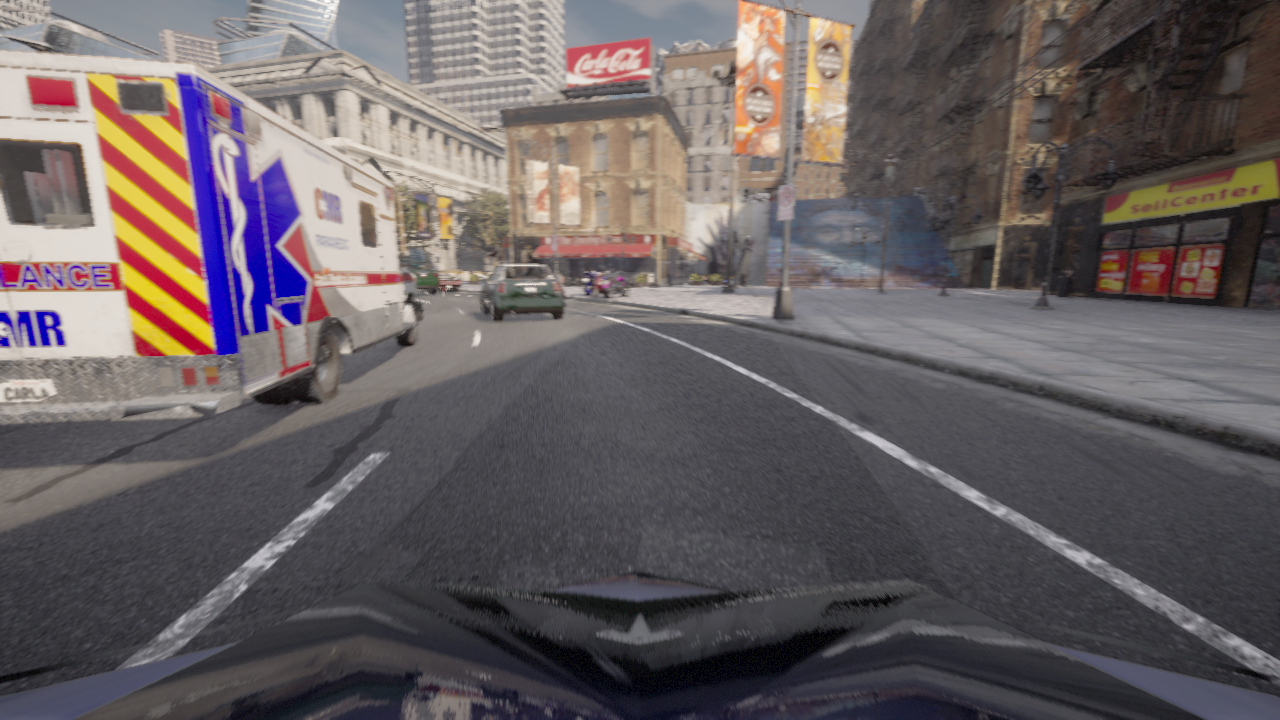cyclist: (0, 569, 1279, 719), (480, 264, 564, 321), (399, 258, 439, 294), (416, 272, 461, 291), (603, 269, 629, 298), (582, 270, 607, 295), (592, 270, 608, 296), (722, 275, 726, 287)
